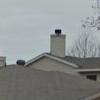Chimney: (40, 19, 69, 62)
